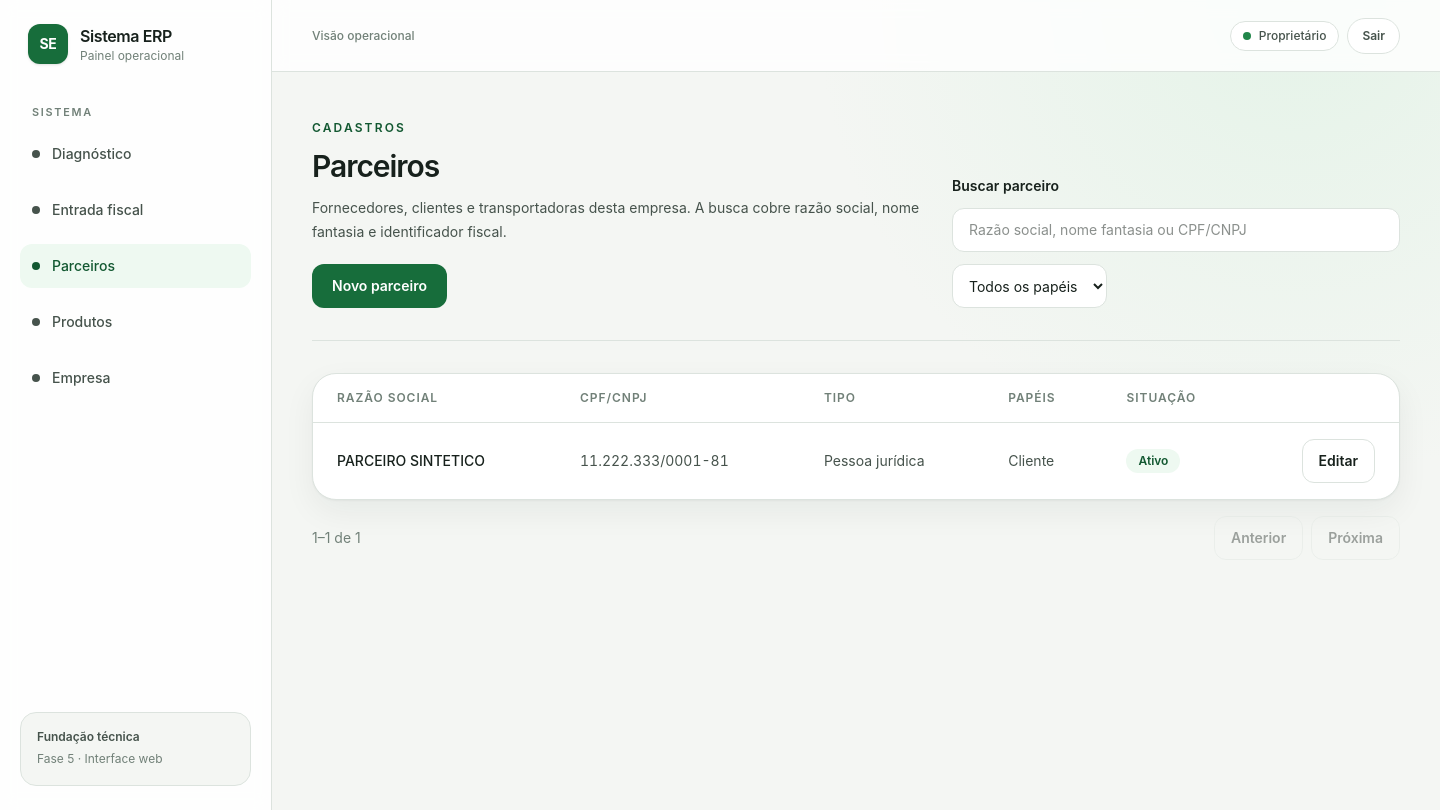
Test: edição de cadastros › atualiza papéis e situação do parceiro com chave de idempotência
Click the button with aria-label "Editar PARCEIRO SINTETICO".
click(1338, 461)  # box x1=1302 y1=439 x2=1375 y2=483
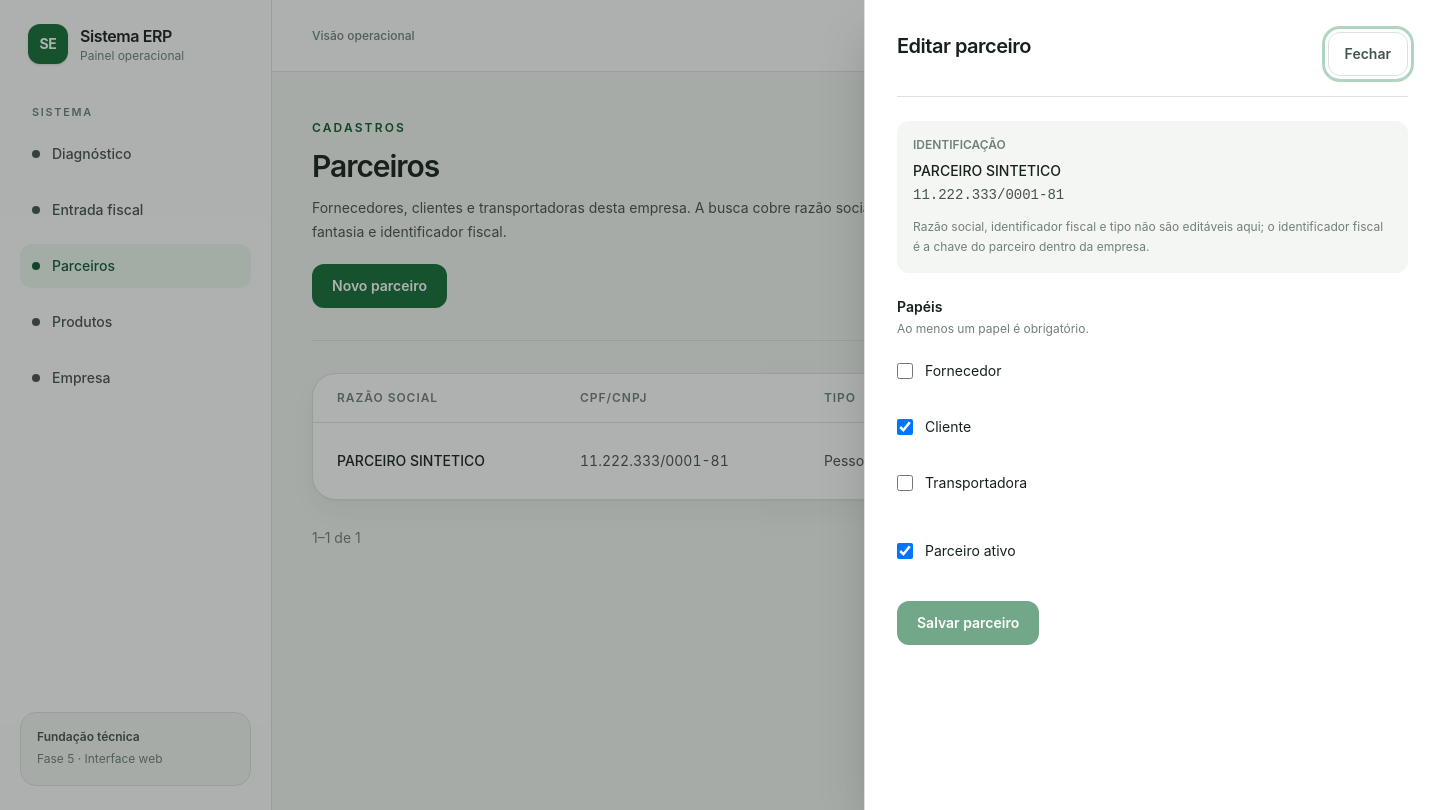
Click the checkbox labelled "Fornecedor".
click(905, 371)  # box x1=897 y1=363 x2=913 y2=379
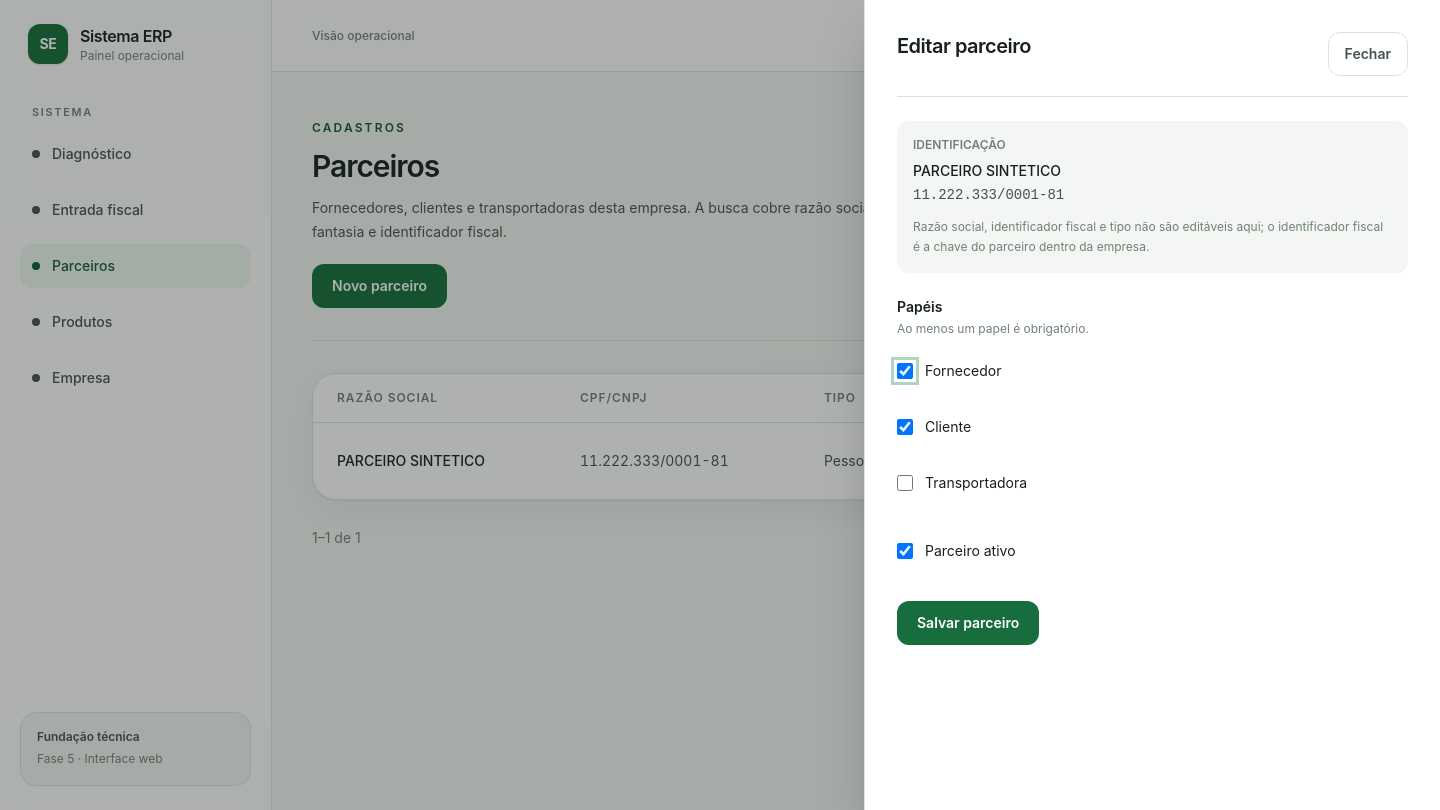
Click the checkbox labelled "Parceiro ativo".
click(905, 551)  # box x1=897 y1=543 x2=913 y2=559
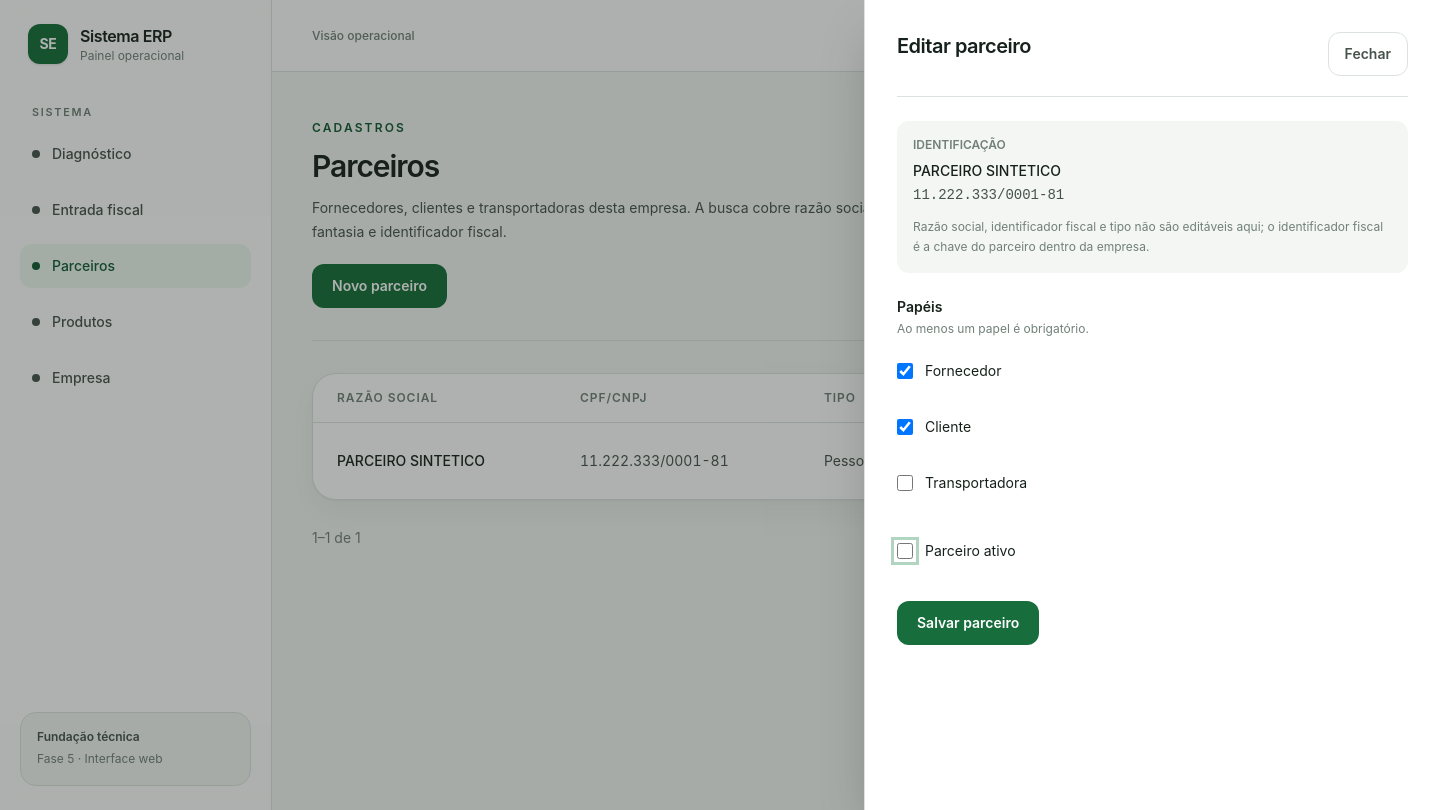
Click the button "Salvar parceiro".
click(968, 623)  # box x1=897 y1=601 x2=1039 y2=645
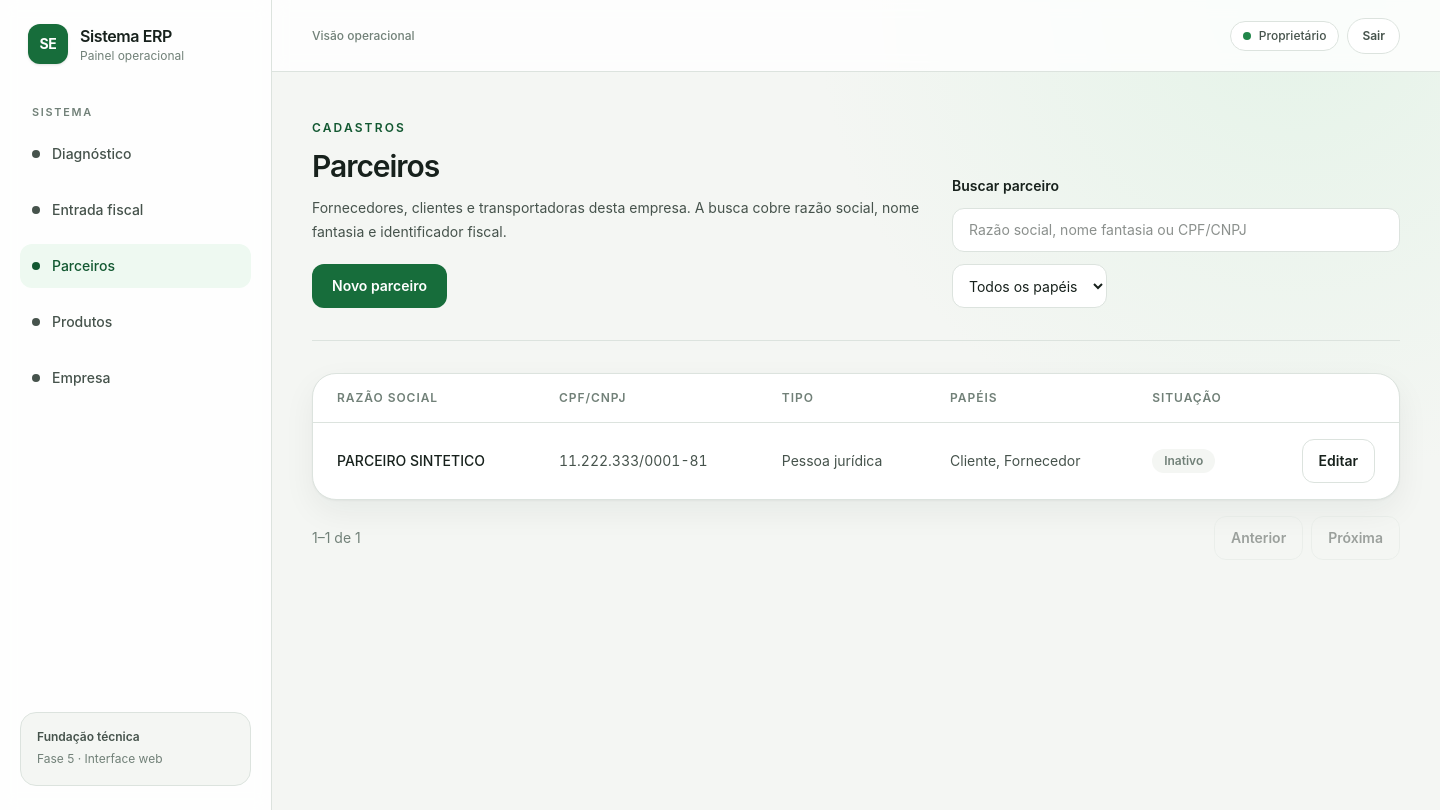
Expected: the dialog is gone
Expected: the text "Inativo" is shown, x1=1152 y1=449 x2=1215 y2=473
